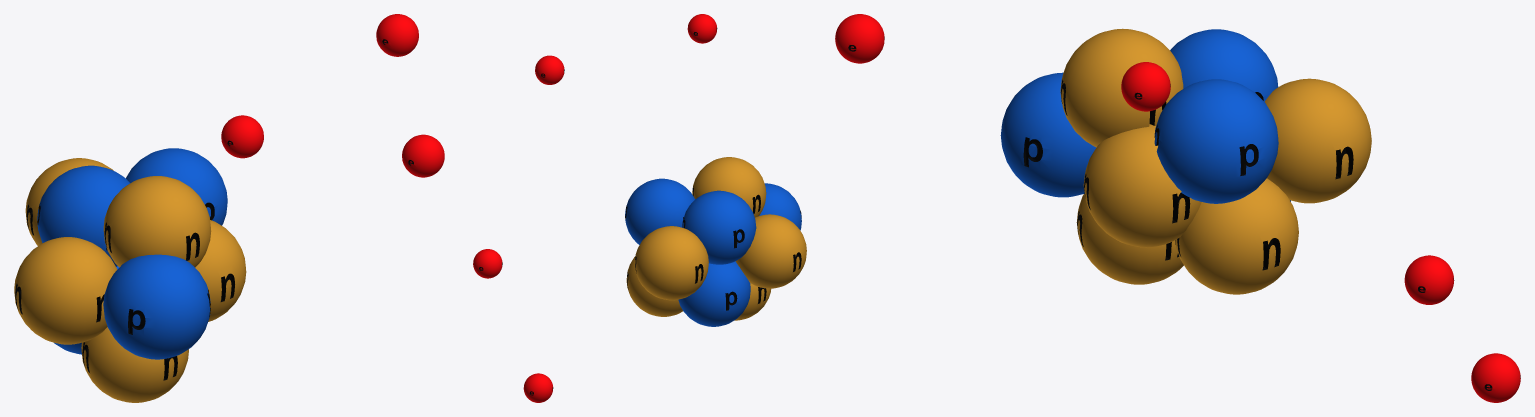
Rendered from atomo.fbx.
3 renders of one model, left to right at view 1: azimuth 30°, elevation 25°; view 2: azimuth 150°, elevation 25°; view 3: azimuth 270°, elevation 25°, orthographic. The views are drawn at different scales.
Visible parts, largest first — view 1: Esfera.005, Esfera2, Esfera2.001, Esfera.007, Esfera, Esfera.009, Esfera2.002, electron2, electron1, electron3, Esfera2.003; view 2: Esfera2.003, Esfera.007, Esfera2, Esfera.003, Esfera.009, Esfera2.001, Esfera2.004, Esfera.005, electron2, electron1, electron4, electron3 (+1 smaller); view 3: Esfera.009, Esfera2.003, Esfera2.004, Esfera2.002, Esfera2.001, Esfera.005, Esfera.007, Esfera, electron1, electron3, electron4, electron2.
Part boxes in pixels (x1,y1,x2,y2): Esfera.005: (103,254,210,359); Esfera2: (14,237,117,344); Esfera2.001: (103,176,211,267); Esfera.007: (37,165,130,266); Esfera: (81,327,188,402); Esfera.009: (126,148,227,225); Esfera2.002: (195,220,246,321); electron2: (221,115,263,158); electron1: (376,14,418,56); electron3: (402,134,444,177); Esfera2.003: (25,158,113,245); Esfera2.003: (634,226,708,300); Esfera.007: (682,190,756,264); Esfera2: (735,214,806,288); Esfera.003: (678,261,750,326); Esfera.009: (625,178,695,244); Esfera2.001: (692,157,766,217); Esfera2.004: (626,256,682,316); Esfera.005: (759,183,801,230); electron2: (473,249,502,278); electron1: (535,55,564,84); electron4: (523,373,553,402); electron3: (687,14,717,43); Esfera.009: (1154,79,1278,203); Esfera2.003: (1265,78,1371,203); Esfera2.004: (1175,178,1298,294); Esfera2.002: (1083,124,1201,247); Esfera2.001: (1060,28,1183,147); Esfera.005: (1000,72,1096,197); Esfera.007: (1170,29,1278,101); Esfera: (1076,193,1183,284); electron1: (1121,62,1170,111); electron3: (835,14,884,63); electron4: (1471,353,1520,402); electron2: (1404,255,1454,304).
Size of the model in its own units: 733 by 641 by 966.
